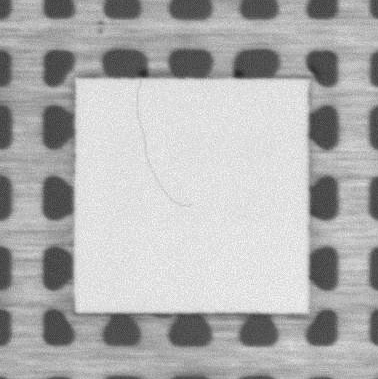DIE_CRACK: (134, 78, 194, 212)
